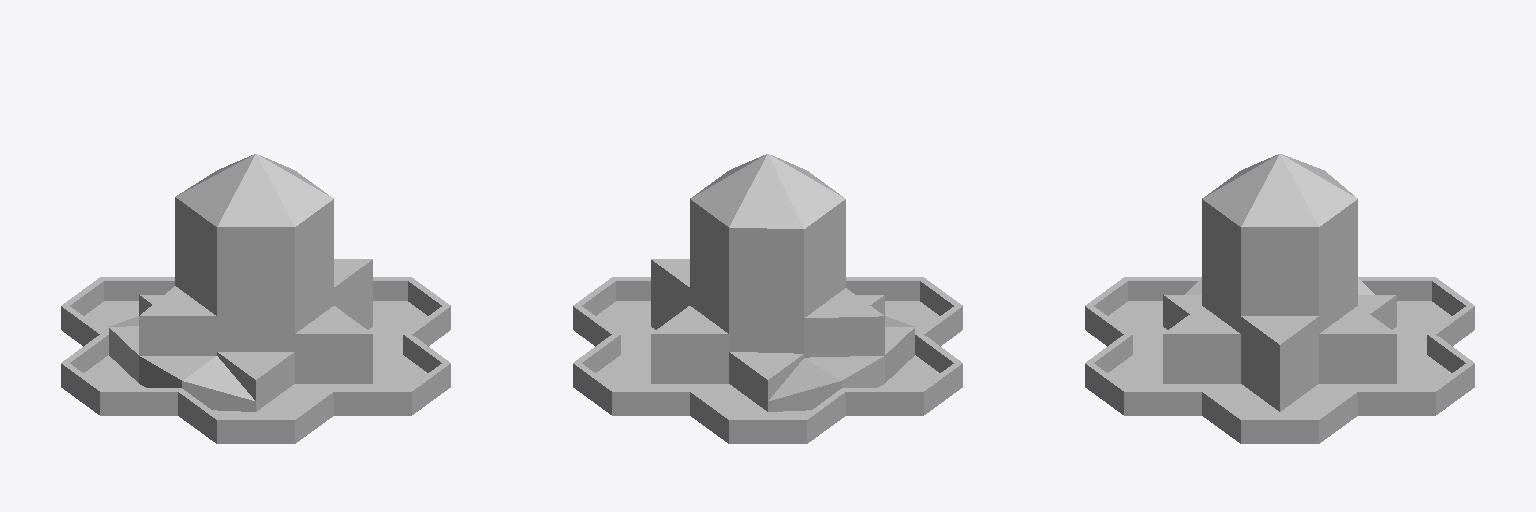
The model's file is Headquarters.obj.
The picture shows the model from 3 angles: view 1: azimuth 30°, elevation 25°; view 2: azimuth 150°, elevation 25°; view 3: azimuth 270°, elevation 25°; orthographic projection.
Parts seen in each view (by area): view 1: HQ_Tile.001; view 2: HQ_Tile.001; view 3: HQ_Tile.001.
Boxes of the visible parts, x1,y1,x2,y2 form: HQ_Tile.001: [61, 154, 450, 443]; HQ_Tile.001: [573, 154, 962, 443]; HQ_Tile.001: [1085, 154, 1474, 443].
Bounding box in the file's own units: 5.2 × 2.9 × 5.